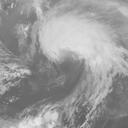cyclone: (36, 9, 107, 67)
